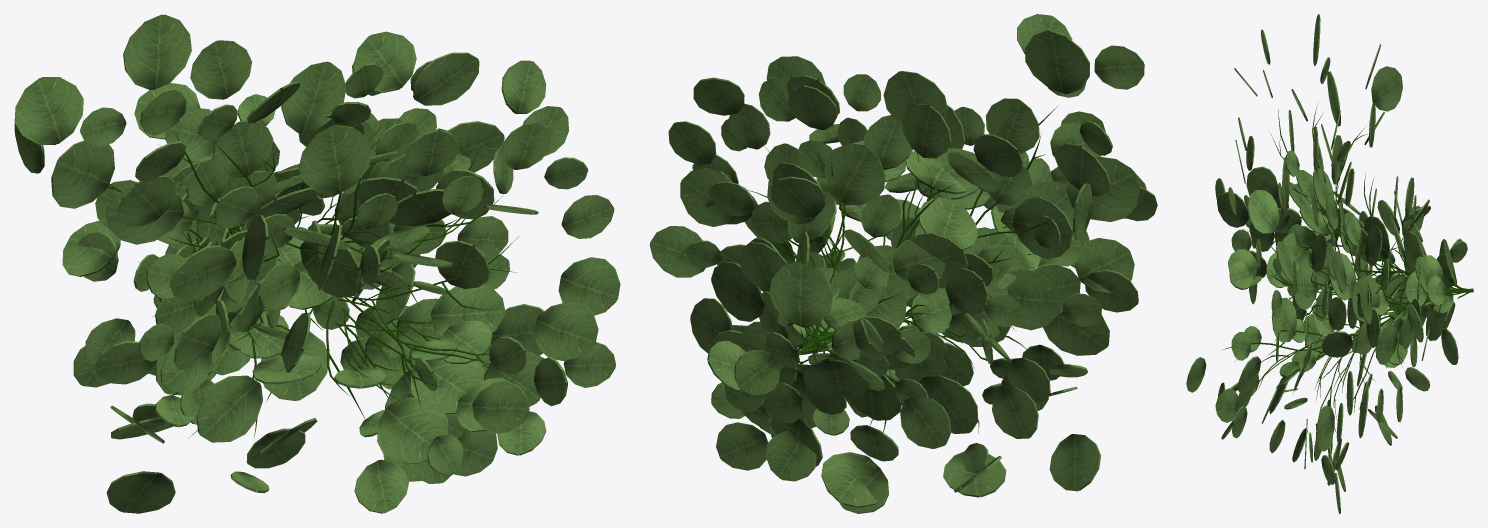
The model's file is plant37.obj.
3 renders of one model, left to right at view 1: azimuth 30°, elevation 25°; view 2: azimuth 150°, elevation 25°; view 3: azimuth 270°, elevation 25°, orthographic. The views are drawn at different scales.
Visible parts, largest first — view 1: leaves.022, tree.022; view 2: leaves.022, tree.022; view 3: leaves.022, tree.022.
Part boxes in pixels (<box>): leaves.022: <box>14,14,620,513</box>; tree.022: <box>107,122,518,438</box>; leaves.022: <box>649,14,1157,513</box>; tree.022: <box>747,105,1058,437</box>; leaves.022: <box>1186,14,1467,513</box>; tree.022: <box>1223,106,1473,433</box>.
Size of the model in its own units: 0.7795 by 0.7732 by 0.5261.
Materials: 2 (2 with a texture image).
